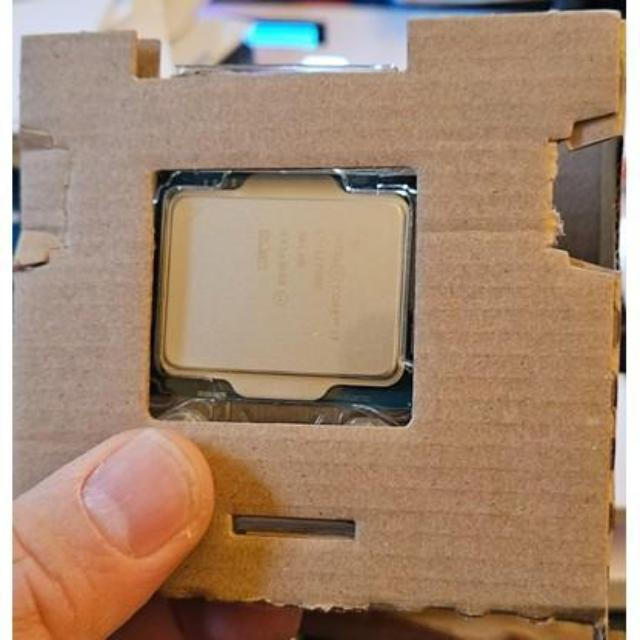CPU: (154, 168, 414, 394)
